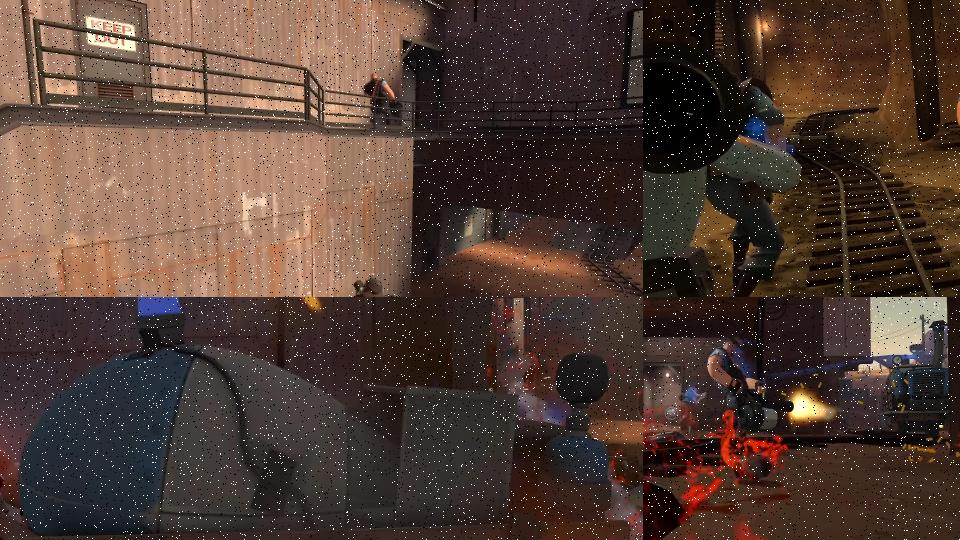Enemy: (643, 46, 800, 297), (704, 340, 800, 439), (361, 70, 404, 129), (677, 384, 710, 439)
